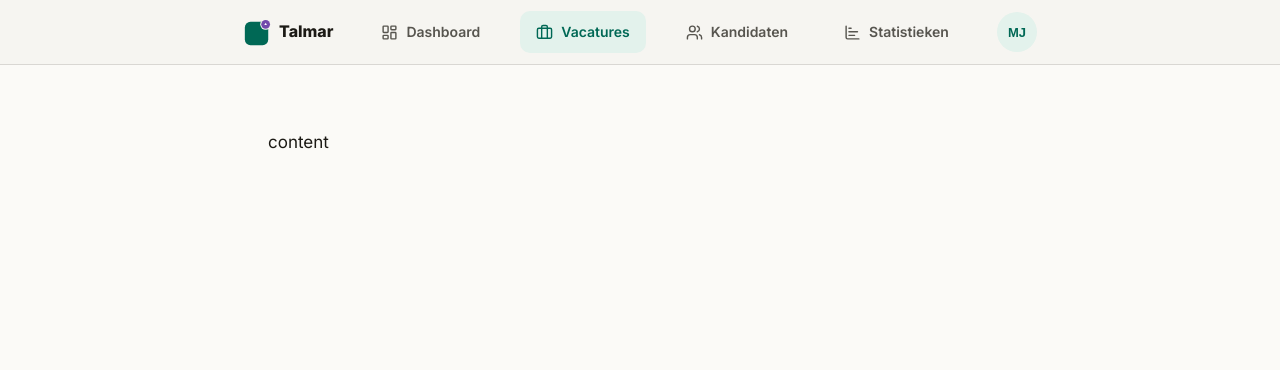
Test: AppShell › closes the account menu on outside mousedown
Click the button "MJ".
click(1017, 32)  # box [997,12,1037,52]
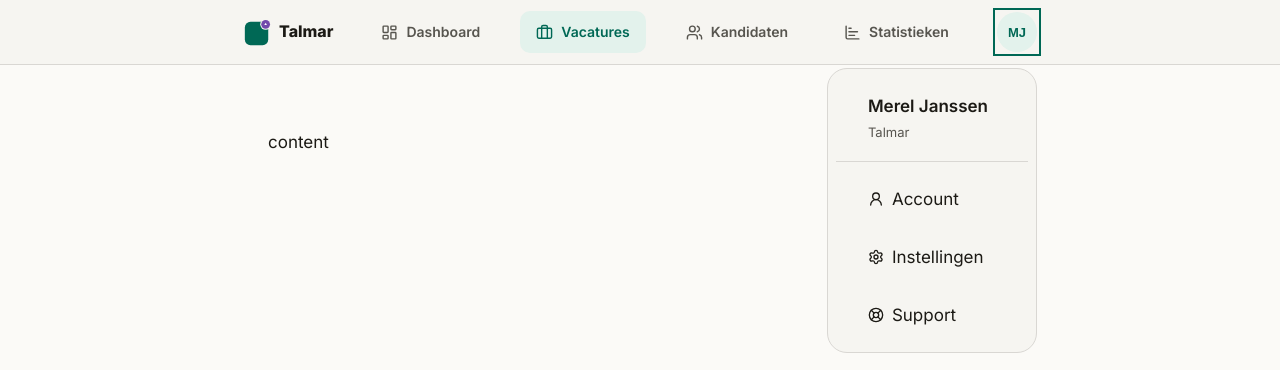
expect the menu named "Accountmenu" is shown: met, box [827,68,1037,353]
Click the text "content".
click(298, 142)  # box [268,132,329,152]
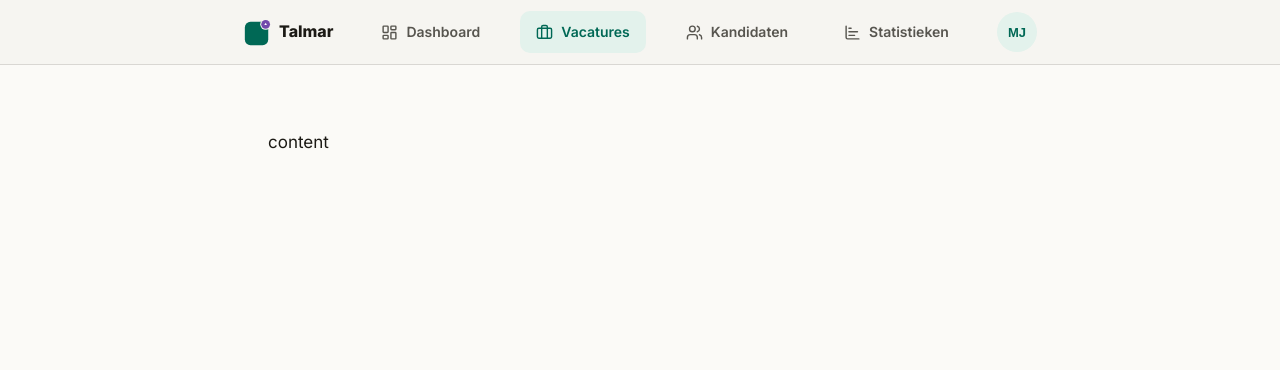
expect the menu "Accountmenu" is gone: met
